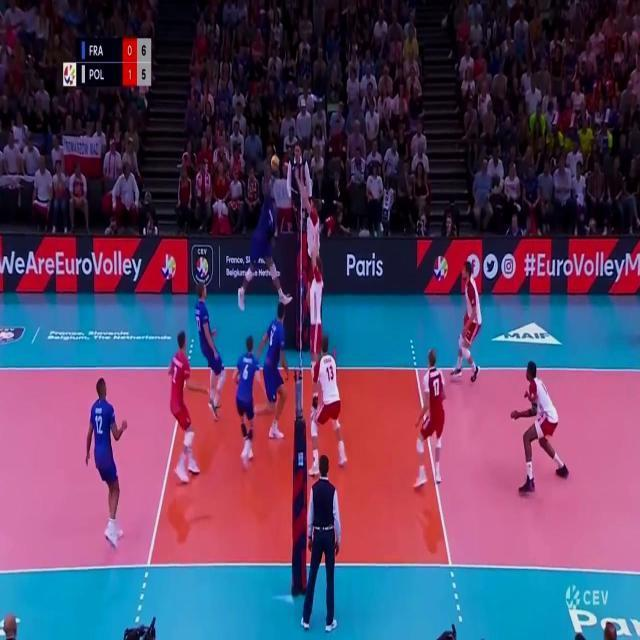volleyball: (271, 155, 280, 171)
